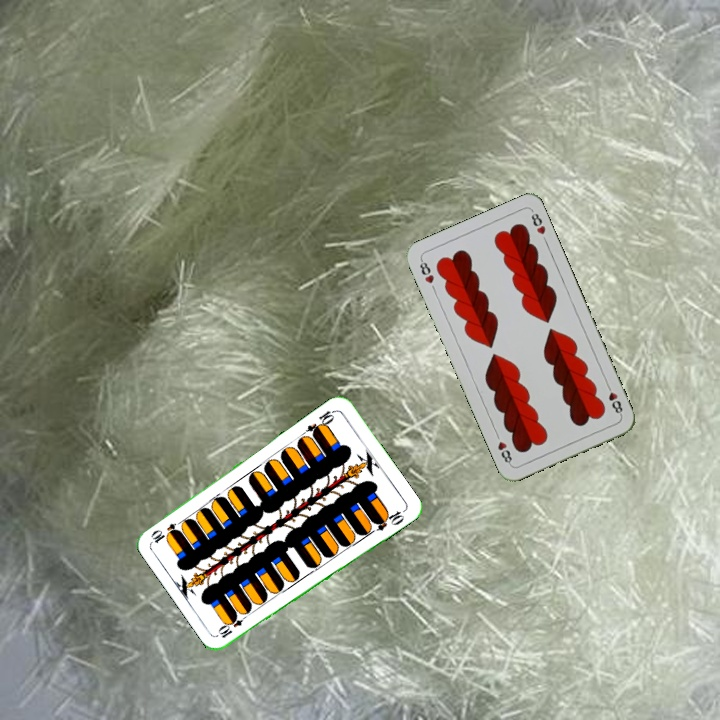E10: (214, 609, 251, 641), (302, 406, 338, 438)
H8: (602, 380, 625, 418), (416, 255, 437, 286)
